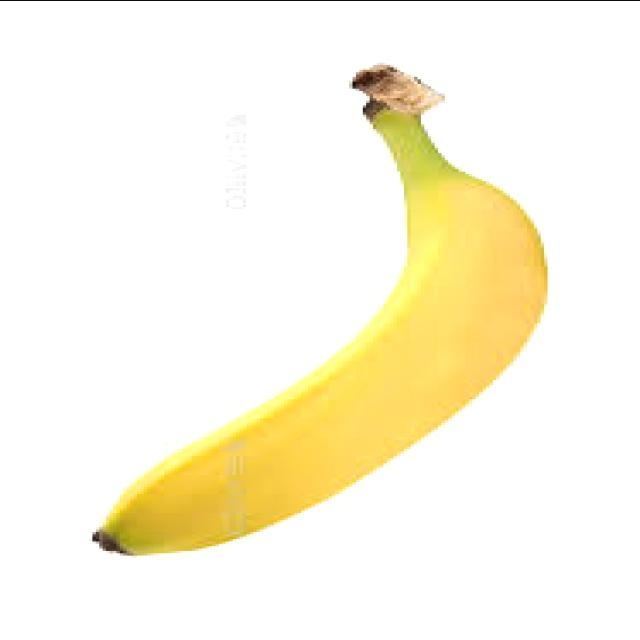agrume: (89, 71, 555, 557)
